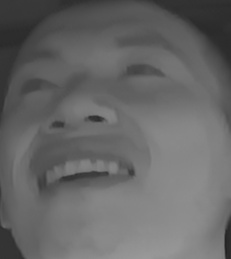eye: (116, 57, 169, 86), (13, 72, 60, 100)
mouth: (25, 144, 139, 201)
